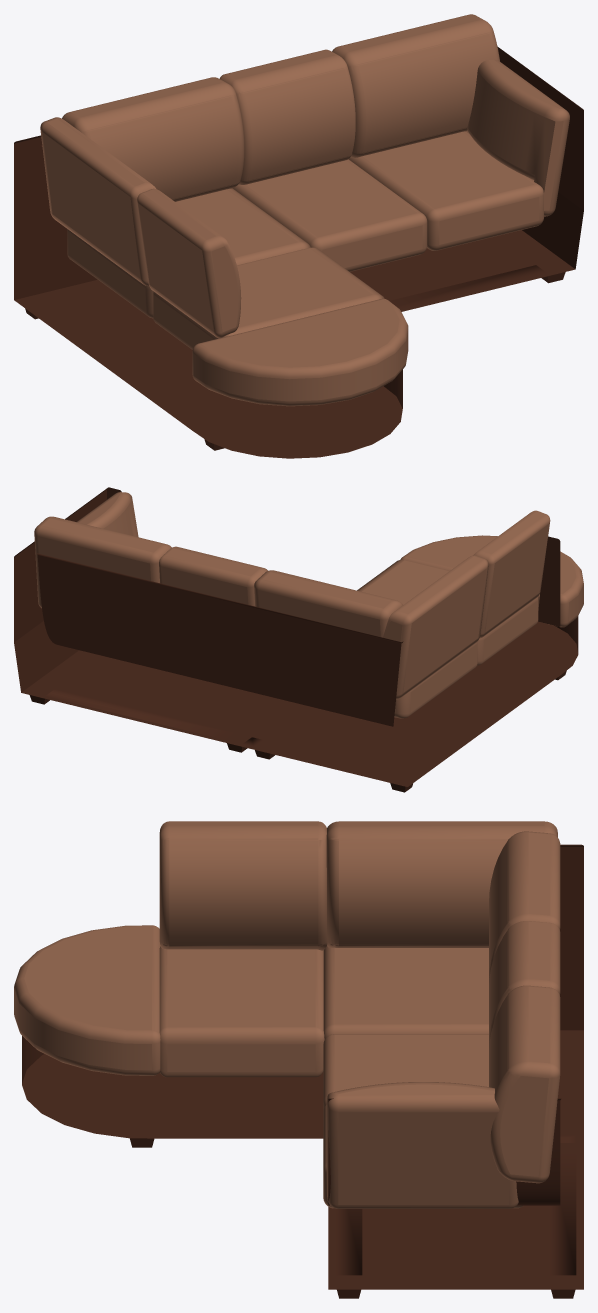
The model's file is sofa2.fbx.
The picture shows the model from 3 angles, top to bottom: view 1: azimuth 30°, elevation 25°; view 2: azimuth 150°, elevation 25°; view 3: azimuth 270°, elevation 25°; orthographic projection. The views are drawn at different scales.
Visible parts, largest first — view 1: sofa_back_cushion, sofa_seat_cushion, sofa_base, sofa_leg_pegs; view 2: sofa_base, sofa_back_cushion, sofa_seat_cushion, sofa_leg_pegs; view 3: sofa_back_cushion, sofa_seat_cushion, sofa_base, sofa_leg_pegs.
Part boxes in pixels (box(x1,y1,x2,y2)): sofa_back_cushion: box(40, 14, 569, 338); sofa_seat_cushion: box(67, 131, 544, 406); sofa_base: box(14, 46, 583, 458); sofa_leg_pegs: box(23, 260, 566, 450); sofa_base: box(14, 487, 578, 786); sofa_back_cushion: box(34, 492, 550, 699); sofa_seat_cushion: box(357, 535, 583, 718); sofa_leg_pegs: box(29, 660, 568, 792); sofa_back_cushion: box(159, 821, 560, 1208); sofa_seat_cushion: box(14, 925, 523, 1208); sofa_base: box(22, 844, 583, 1289); sofa_leg_pegs: box(129, 1033, 576, 1298).
Bounding box in the file's own units: 10.25 × 4.23 × 9.27.
